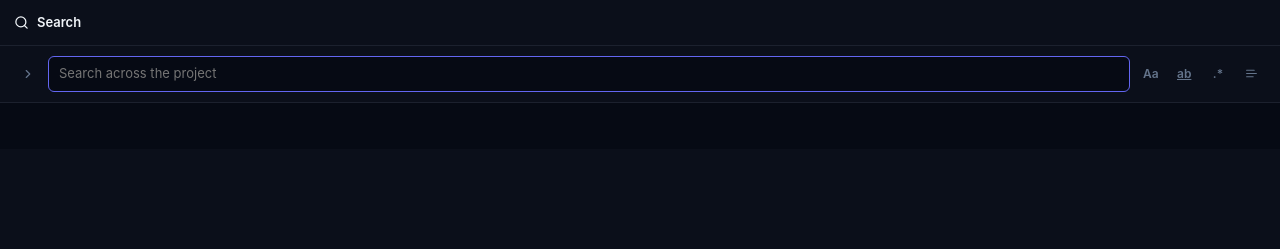
Test case: SearchView per-match opt-out › renders a checkbox per match row and per file, all checked
Step 1. Type "foo" into the field named "Search query" → (589, 74), box [48,56,1130,92]
Wait 300 ms
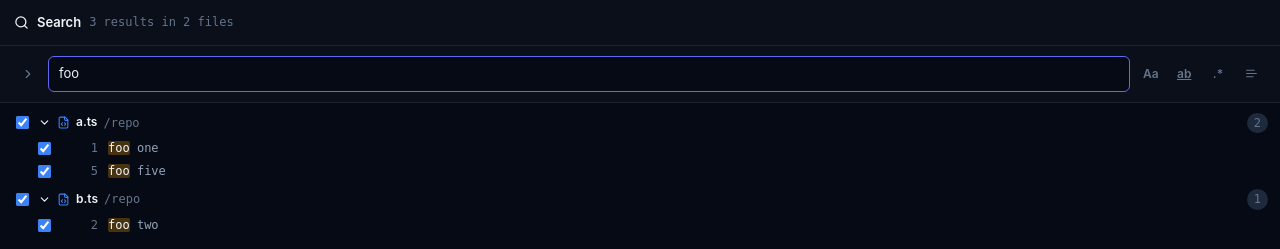
Check: the checkbox named "Include file /repo/a.ts" is shown, box [16,116,29,129]
Check: the number of checkboxes is 5, box [16,116,29,129]; [38,142,51,155]; [38,165,51,178]; [16,193,29,206]; [38,219,51,232]
